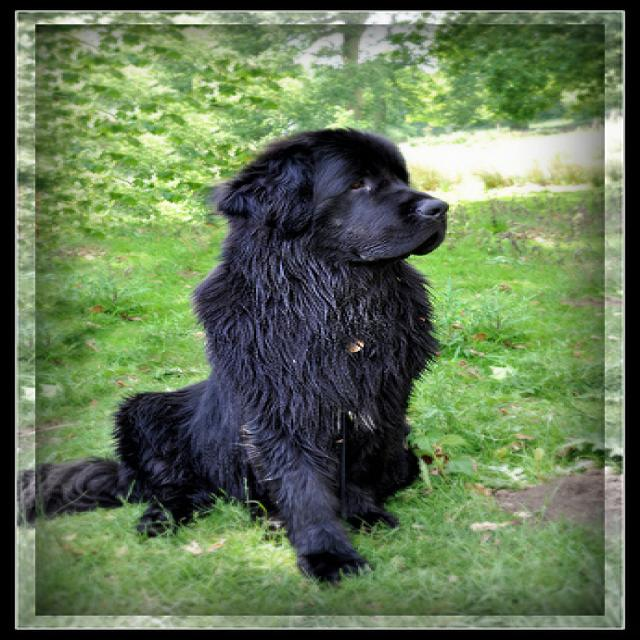dog-newfoundland: (6, 119, 464, 591)
